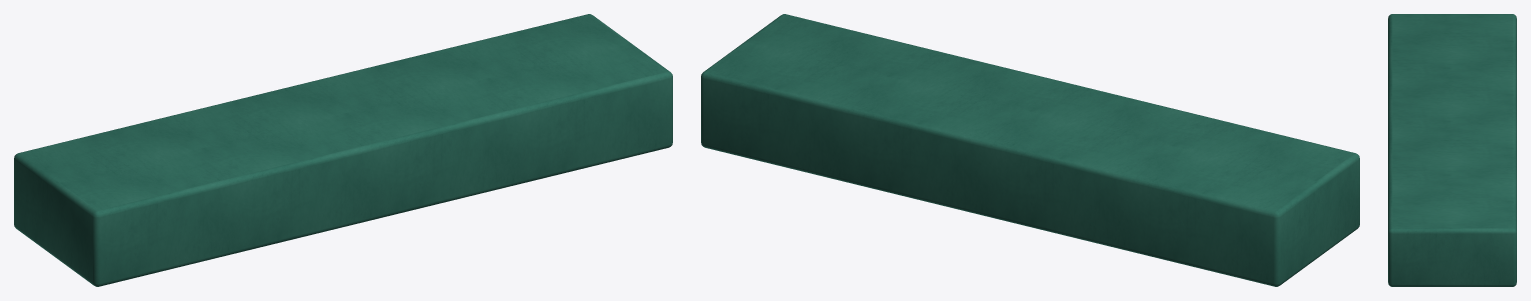
Rendered from Genga wall block large.FBX.
The picture shows the model from 3 angles, left to right: view 1: azimuth 30°, elevation 25°; view 2: azimuth 150°, elevation 25°; view 3: azimuth 270°, elevation 25°; orthographic projection. The views are drawn at different scales.
Parts seen in each view (by area): view 1: ChamferBox057; view 2: ChamferBox057; view 3: ChamferBox057.
Part boxes in pixels (<box>): ChamferBox057: <box>14,14,672,286</box>; ChamferBox057: <box>701,14,1359,286</box>; ChamferBox057: <box>1388,14,1516,286</box>.
Size of the model in its own units: 1200 by 150 by 300.
Materials: 1 (1 with a texture image).
